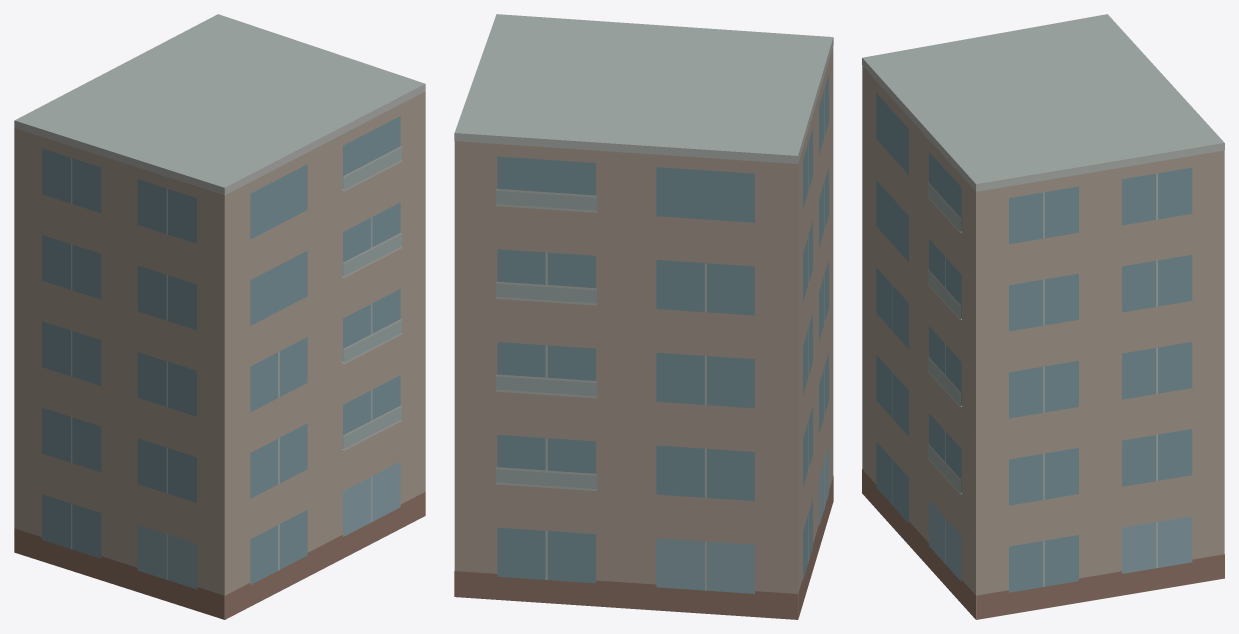
The model's file is survey-upis-32853632.glb.
The picture shows the model from 3 angles, left to right: view 1: azimuth 30°, elevation 25°; view 2: azimuth 150°, elevation 25°; view 3: azimuth 270°, elevation 25°; orthographic projection. The views are drawn at different scales.
Visible parts, largest first — view 1: survey-upis-32853632.tmp; view 2: survey-upis-32853632.tmp; view 3: survey-upis-32853632.tmp.
Boxes of the visible parts, x1=… form: survey-upis-32853632.tmp: x1=14, y1=14, x2=425, y2=619; survey-upis-32853632.tmp: x1=454, y1=14, x2=833, y2=619; survey-upis-32853632.tmp: x1=862, y1=14, x2=1224, y2=619.
Size of the model in its own units: 11.75 by 14 by 10.57.
